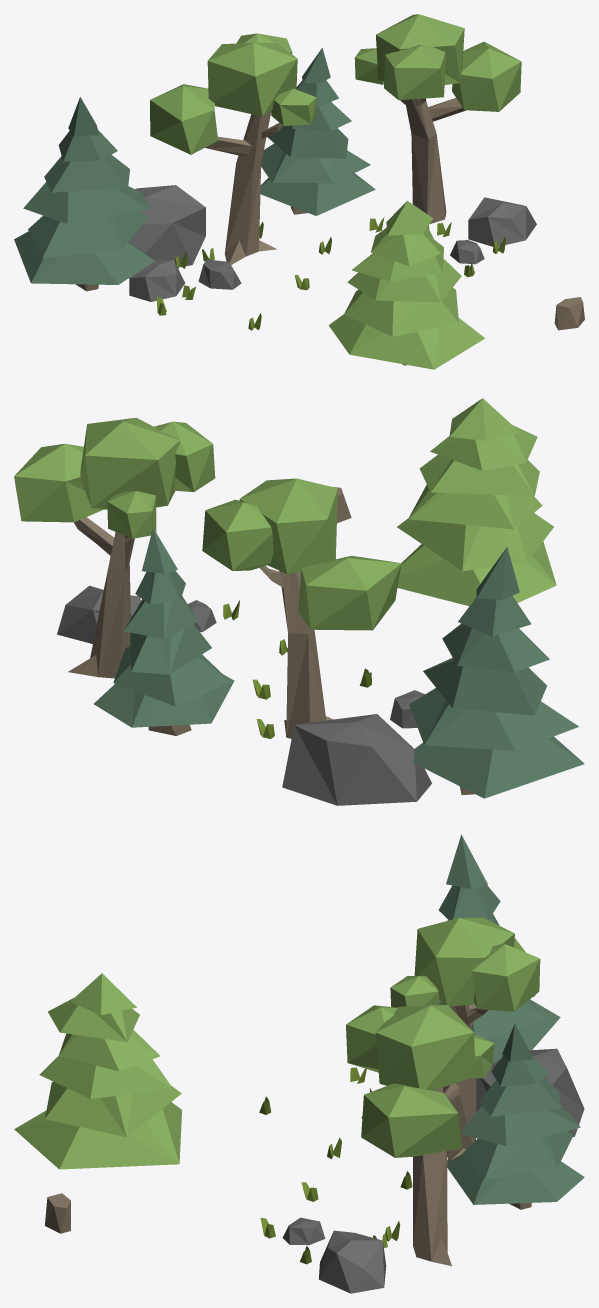
Rendered from forestnew.dae.
The picture shows the model from 3 angles, top to bottom: view 1: azimuth 30°, elevation 25°; view 2: azimuth 150°, elevation 25°; view 3: azimuth 270°, elevation 25°; orthographic projection. The views are drawn at different scales.
Parts seen in each view (by area): view 1: SketchUp (×33), group_5, group_2, group_1, group_3, group_4, group_0; view 2: SketchUp (×29), group_2, group_5, group_1, group_4, group_3, group_0; view 3: SketchUp (×24), group_5, group_2, group_1, group_4, group_3, group_0.
Boxes of the visible parts, x1,y1,x2,y2 form: SketchUp (×33): (14,14,584,330); group_5: (329,314,485,369); group_2: (344,288,458,336); group_1: (347,258,461,302); group_3: (371,227,440,266); group_4: (352,240,443,281); group_0: (386,201,433,235); SketchUp (×29): (14,417,584,805); group_2: (397,513,553,571); group_5: (397,541,556,606); group_1: (408,484,542,529); group_4: (419,454,539,495); group_3: (430,425,537,470); group_0: (449,398,519,440); SketchUp (×24): (44,834,584,1293); group_5: (14,1102,181,1169); group_2: (45,1081,181,1137); group_1: (39,1056,172,1098); group_4: (58,1030,160,1071); group_3: (48,998,139,1041); group_0: (70,973,136,1014).
Size of the model in its own units: 512 by 462 by 228.
